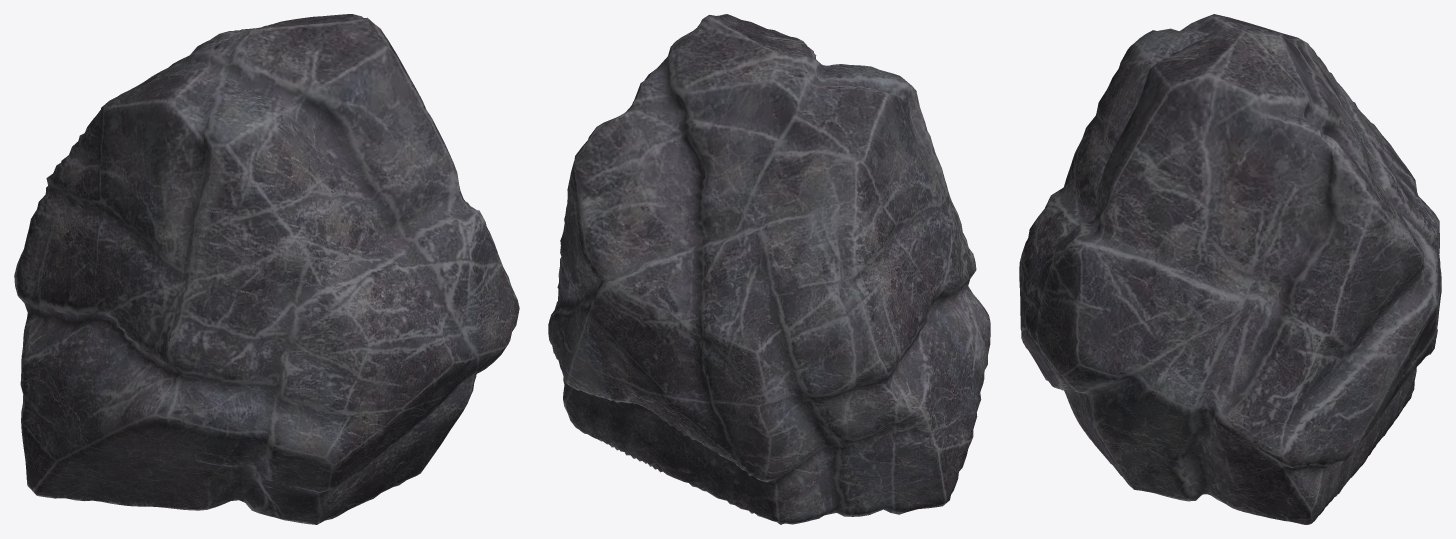
Rendered from boulder.glb.
The picture shows the model from 3 angles, left to right: view 1: azimuth 30°, elevation 25°; view 2: azimuth 150°, elevation 25°; view 3: azimuth 270°, elevation 25°; orthographic projection. The views are drawn at different scales.
Parts seen in each view (by area): view 1: defaultMaterial; view 2: defaultMaterial; view 3: defaultMaterial.
Boxes of the visible parts, x1,y1,x2,y2 form: defaultMaterial: [14, 14, 519, 524]; defaultMaterial: [548, 14, 990, 524]; defaultMaterial: [1019, 14, 1441, 524].
Size of the model in its own units: 115 by 110 by 101.
Materials: 1 (1 with a texture image).
